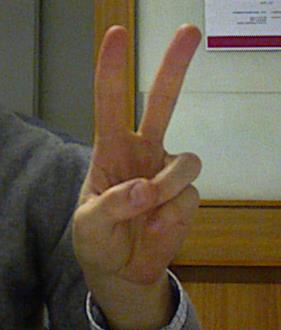front: (70, 22, 215, 290)
